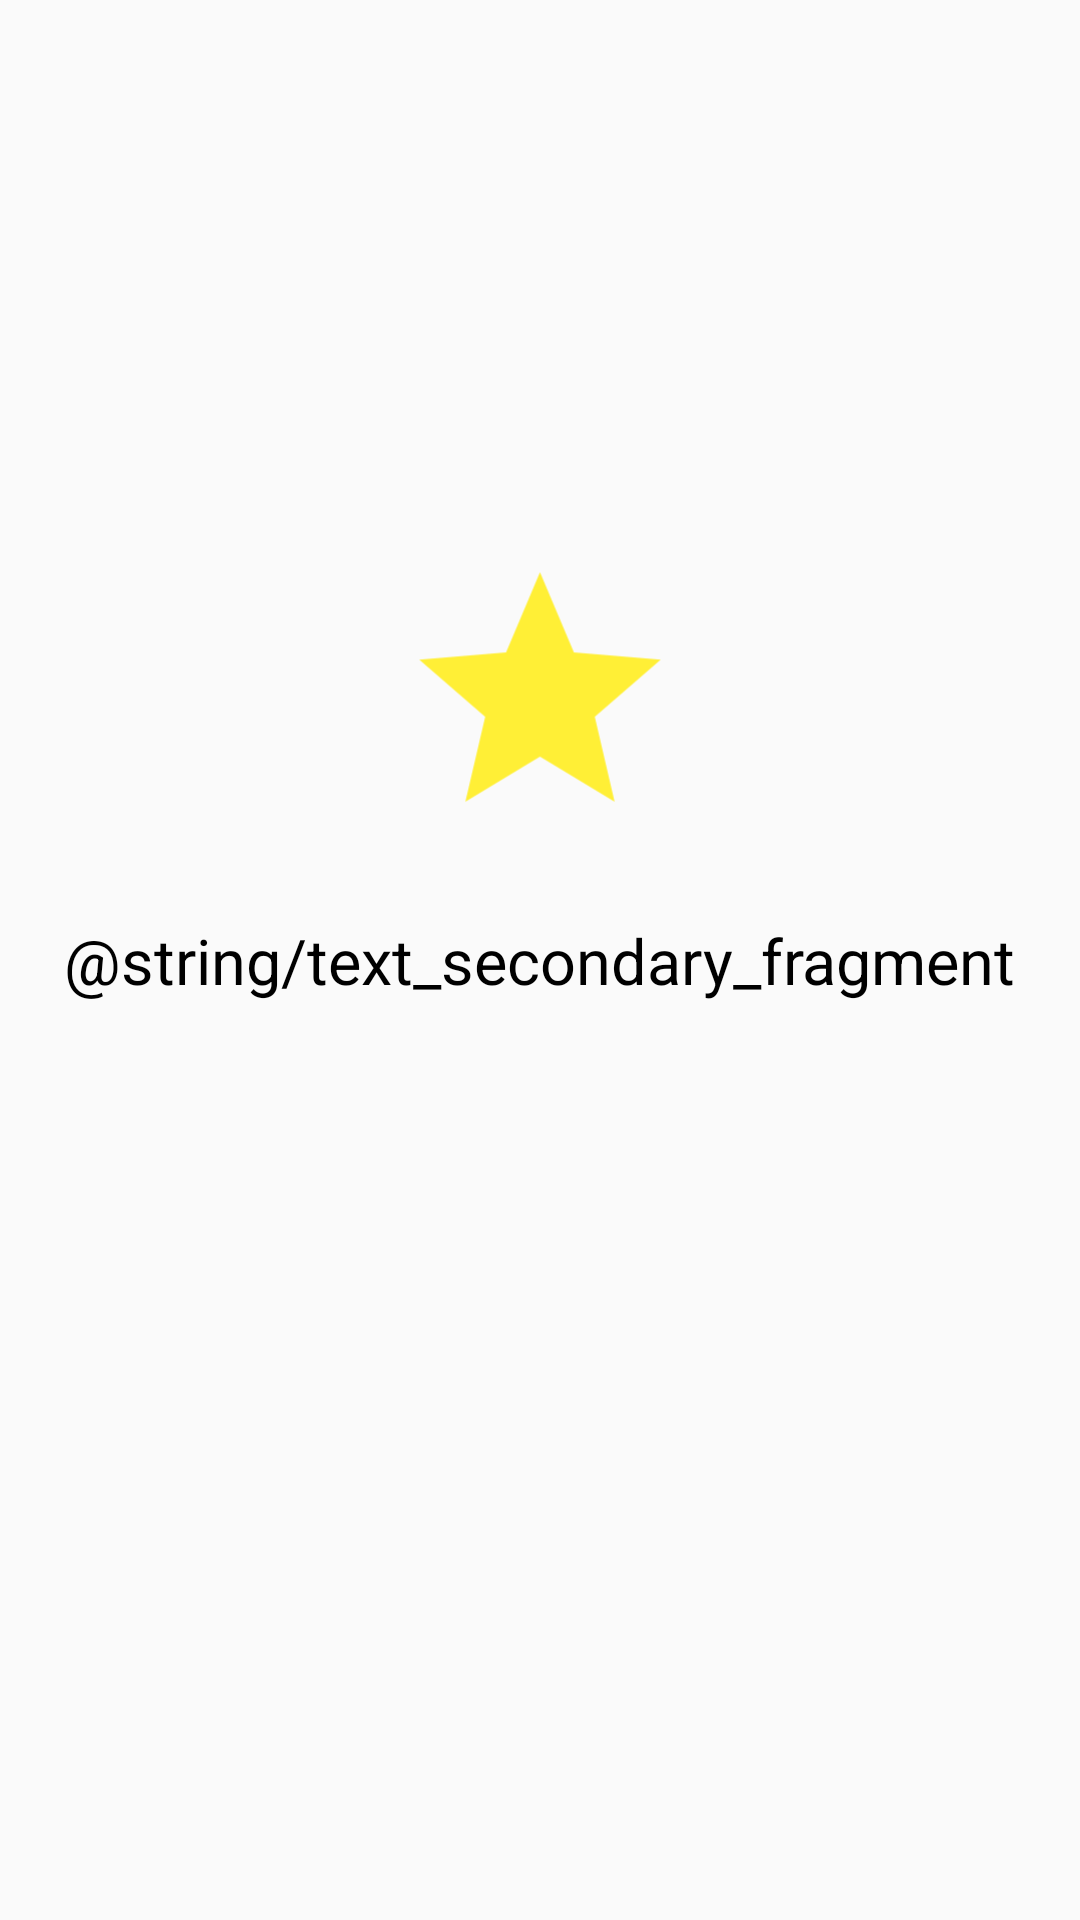

Screen size 1080px x 1920px. Icon name, then its center in pixels as [x,y]:
star: [540,687]
